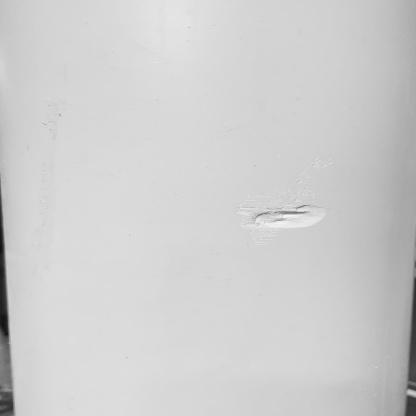sunshang: (241, 192, 336, 234)
